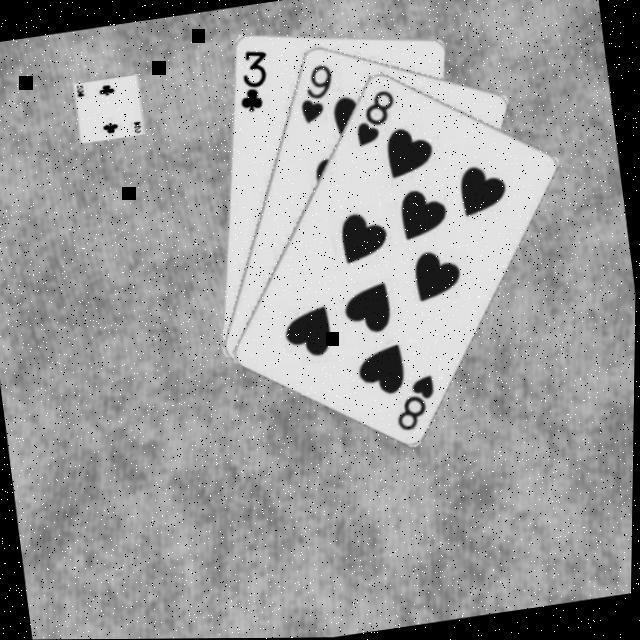3C: (228, 43, 276, 115)
8H: (346, 85, 403, 149), (388, 370, 443, 434)
9H: (290, 59, 340, 127)
